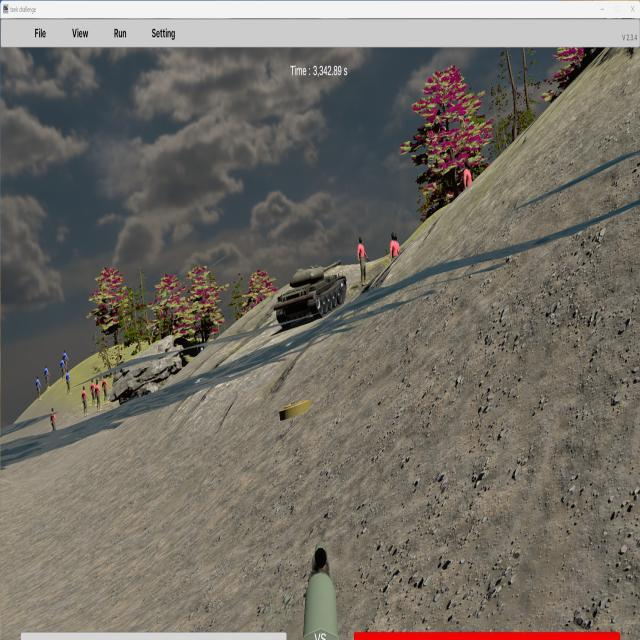Human: (389, 232, 401, 281), (358, 236, 369, 286)
Tank: (275, 259, 348, 325)
